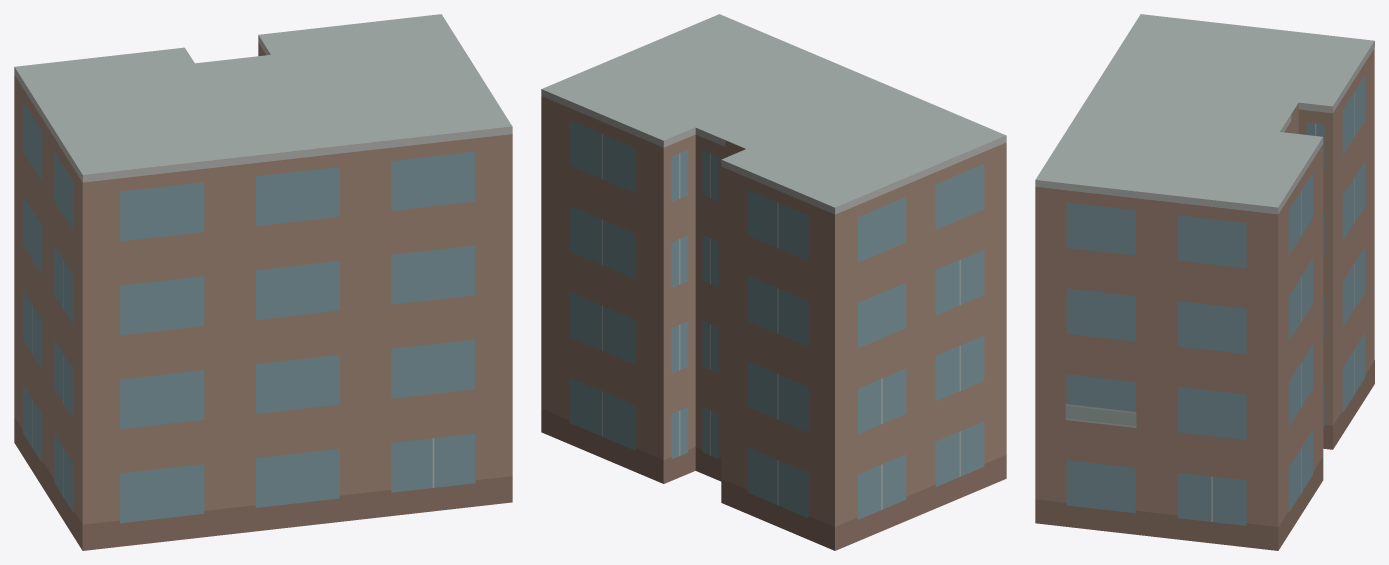
The model's file is residential-2321602a-d9cf-4c99-8093-65062ccb4d1b.glb.
The picture shows the model from 3 angles, left to right: view 1: azimuth 30°, elevation 25°; view 2: azimuth 150°, elevation 25°; view 3: azimuth 270°, elevation 25°; orthographic projection. The views are drawn at different scales.
Parts seen in each view (by area): view 1: residential-2321602a-d9cf-4c99-8093-65062ccb4d1b.tmp; view 2: residential-2321602a-d9cf-4c99-8093-65062ccb4d1b.tmp; view 3: residential-2321602a-d9cf-4c99-8093-65062ccb4d1b.tmp.
Boxes of the visible parts, <box> form: residential-2321602a-d9cf-4c99-8093-65062ccb4d1b.tmp: <box>14,14,512,550</box>; residential-2321602a-d9cf-4c99-8093-65062ccb4d1b.tmp: <box>541,14,1006,550</box>; residential-2321602a-d9cf-4c99-8093-65062ccb4d1b.tmp: <box>1035,14,1374,550</box>.
Size of the model in its own units: 14.76 by 12.2 by 10.94.
